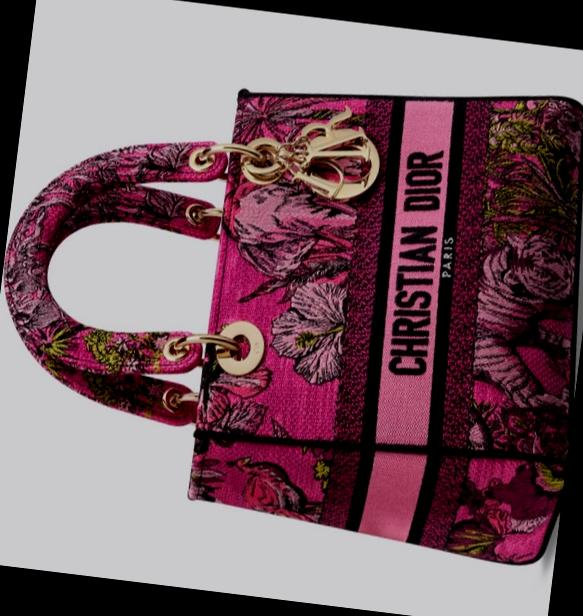DIOR: (369, 141, 474, 388)
